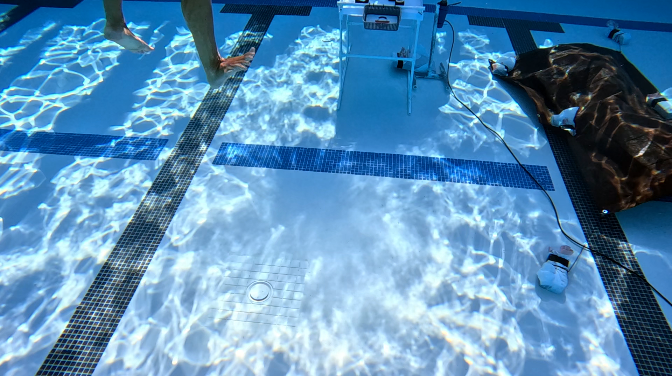sandbag: (489, 43, 671, 375)
